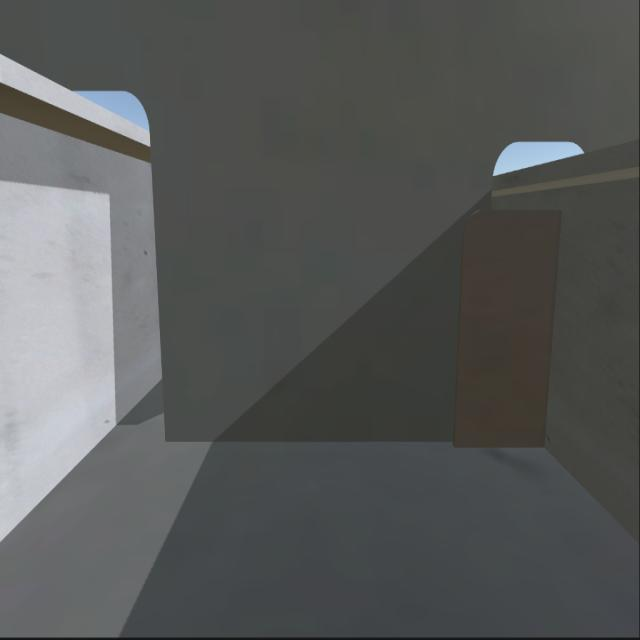fillet_yong_jeop_jang: (165, 438, 547, 448)
longi_yong_jeop_jang: (540, 219, 559, 444)
plate_CP05: (465, 214, 559, 451)
